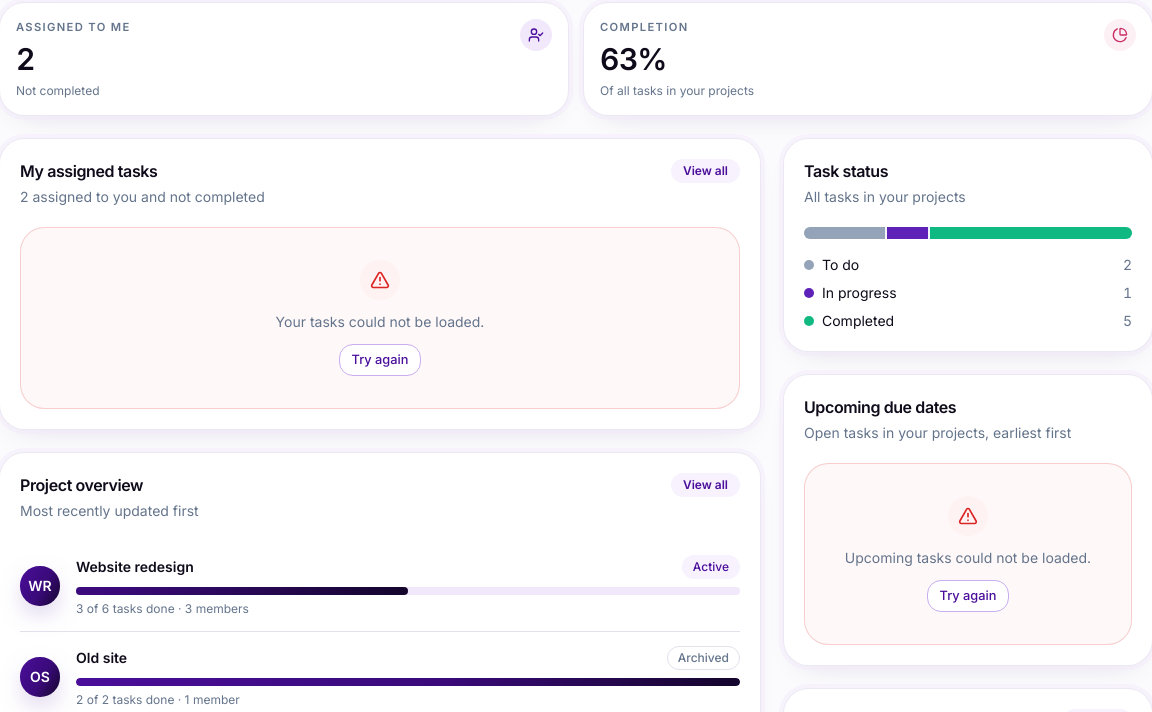
Test: dashboard loading and errors › shows an error for the task lists when a project's tasks fail, and retries
The image size is (1152, 712).
(page scrolled)
Check: the text "Your tasks could not be loaded." is shown, box [276, 312, 484, 332]
Step 1. Click the button "Try again" below "Your tasks could not be loaded." → (380, 360), box [338, 344, 421, 376]
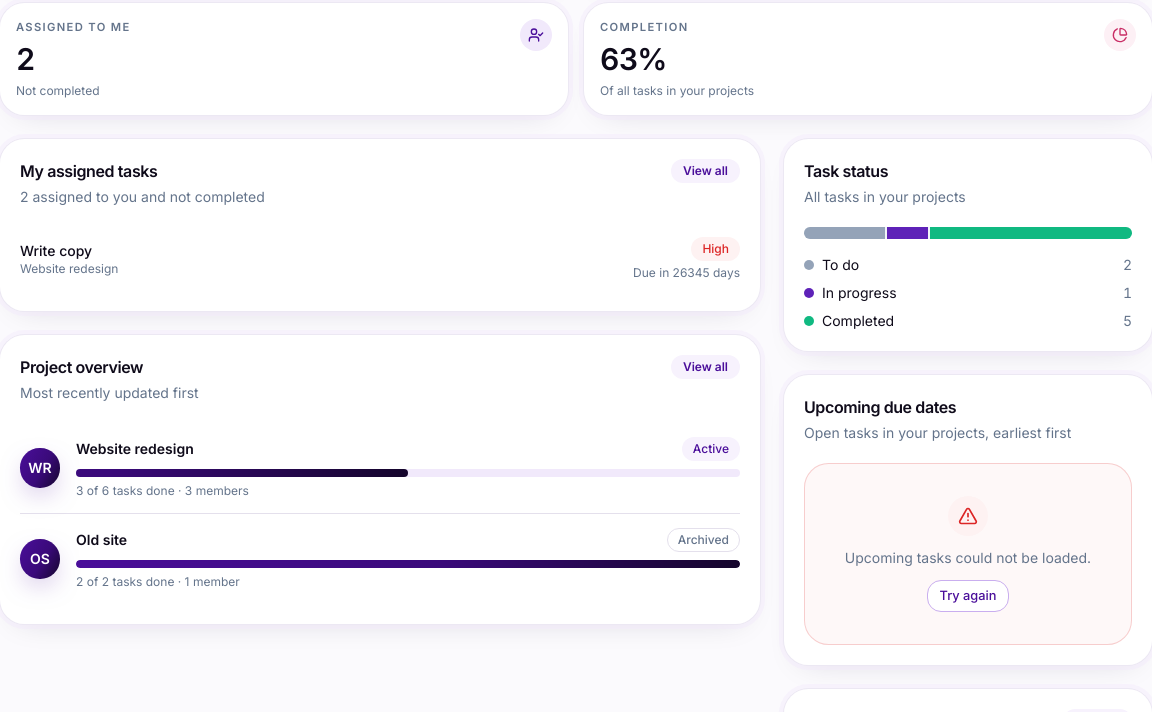
Check: the link "Write copy" is shown, box [20, 242, 92, 259]
